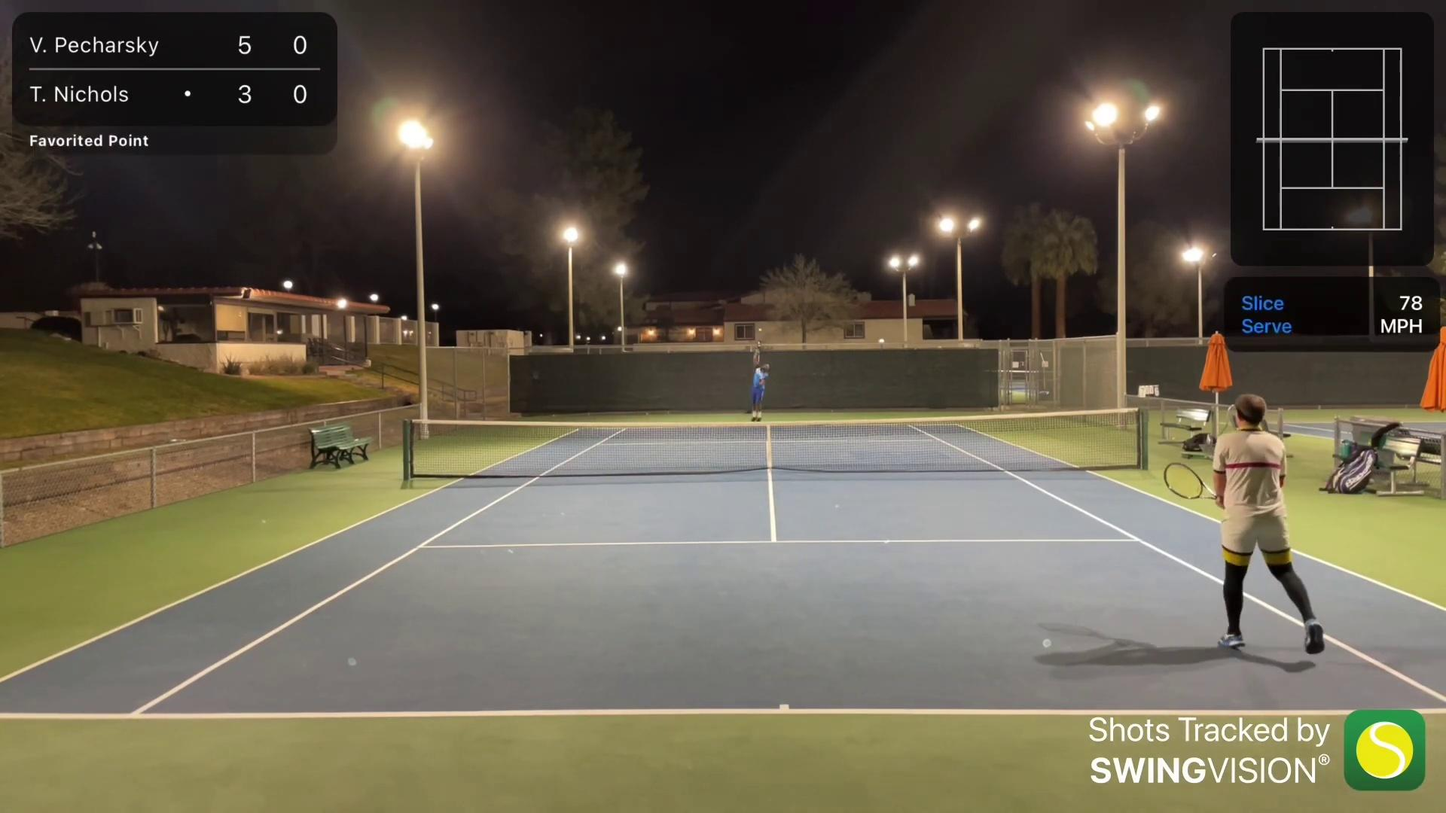ball: (756, 327, 763, 333)
